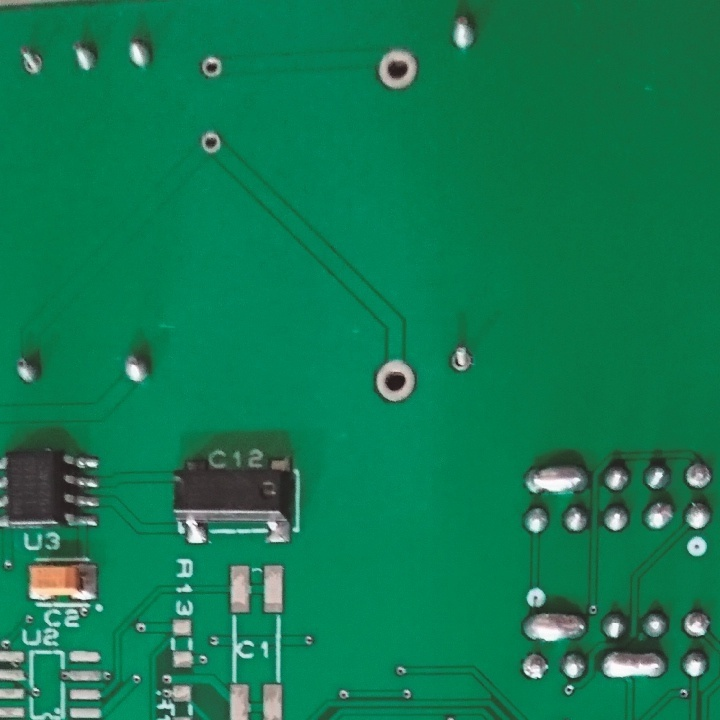F: (373, 358, 417, 406), (373, 49, 420, 92), (518, 651, 551, 683), (445, 343, 476, 376), (16, 46, 46, 78), (684, 460, 714, 491), (682, 608, 710, 638), (197, 128, 224, 155), (200, 54, 225, 79)
P: (601, 649, 666, 683), (523, 464, 587, 498), (521, 610, 586, 642)
